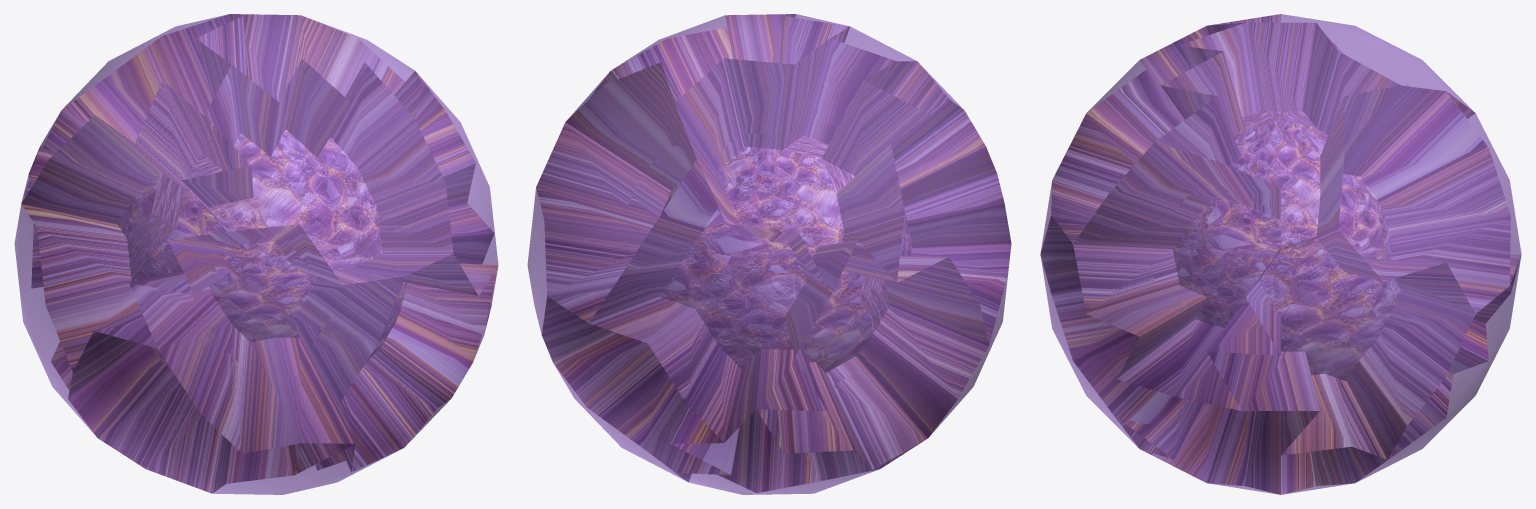
File: crystal-broken.glb
3 views of the same model, side by side, from view 1: azimuth 30°, elevation 25°; view 2: azimuth 150°, elevation 25°; view 3: azimuth 270°, elevation 25° (orthographic).
Visible parts, largest first — view 1: fragment_07, fragment_02, fragment_04, fragment_10, fragment_01, fragment_00, fragment_12, fragment_05, fragment_09, fragment_15, fragment_13, fragment_06 (+3 smaller); view 2: fragment_01, fragment_06, fragment_09, fragment_03, fragment_04, fragment_00, fragment_11, fragment_14, fragment_08, fragment_02, fragment_12, fragment_13 (+3 smaller); view 3: fragment_05, fragment_08, fragment_03, fragment_00, fragment_02, fragment_13, fragment_10, fragment_01, fragment_11, fragment_07, fragment_15, fragment_06 (+2 smaller).
Part boxes in pixels (x1,y1,x2,y2): fragment_07: [129, 224, 405, 453]; fragment_02: [182, 59, 453, 285]; fragment_04: [21, 80, 251, 371]; fragment_10: [286, 254, 498, 474]; fragment_01: [21, 14, 245, 224]; fragment_00: [196, 14, 444, 166]; fragment_12: [68, 311, 301, 493]; fragment_05: [358, 72, 498, 334]; fragment_09: [14, 149, 158, 437]; fragment_15: [146, 392, 402, 494]; fragment_13: [316, 316, 480, 469]; fragment_06: [29, 38, 178, 288]; fragment_01: [674, 38, 929, 294]; fragment_06: [589, 159, 831, 442]; fragment_09: [756, 240, 988, 469]; fragment_03: [536, 62, 728, 323]; fragment_04: [825, 61, 1011, 345]; fragment_00: [566, 14, 850, 171]; fragment_11: [541, 296, 739, 481]; fragment_14: [643, 367, 926, 494]; fragment_08: [527, 123, 652, 407]; fragment_02: [728, 14, 963, 153]; fragment_12: [863, 249, 1010, 468]; fragment_13: [589, 352, 673, 444]; fragment_05: [1073, 142, 1280, 410]; fragment_08: [1207, 229, 1475, 459]; fragment_03: [1317, 85, 1510, 313]; fragment_00: [1155, 22, 1400, 249]; fragment_02: [1051, 23, 1257, 247]; fragment_13: [1117, 351, 1386, 494]; fragment_10: [1040, 216, 1202, 459]; fragment_01: [1207, 14, 1474, 164]; fragment_11: [1344, 254, 1521, 482]; fragment_07: [1040, 91, 1152, 360]; fragment_15: [1074, 332, 1314, 494]; fragment_06: [1405, 92, 1521, 323].
Bounding box in the file's own units: 2 × 2 × 2.
